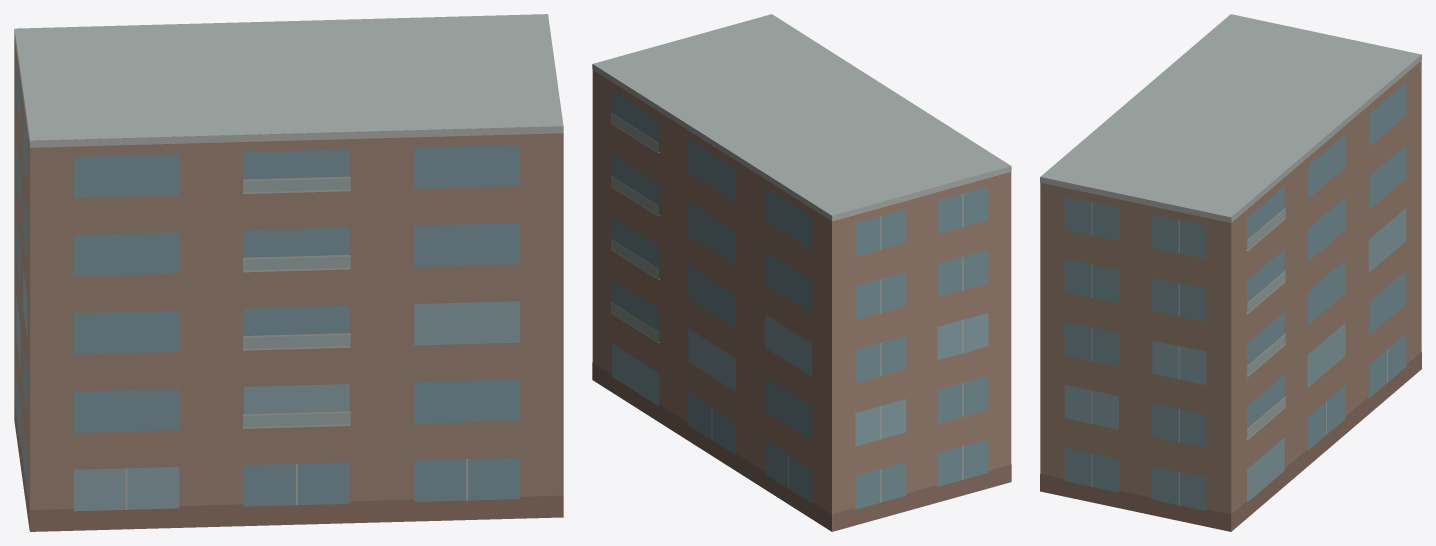
File: survey-upis-32886182.glb
3 views of the same model, side by side, from view 1: azimuth 30°, elevation 25°; view 2: azimuth 150°, elevation 25°; view 3: azimuth 270°, elevation 25° (orthographic). The views are drawn at different scales.
Visible parts, largest first — view 1: survey-upis-32886182.tmp; view 2: survey-upis-32886182.tmp; view 3: survey-upis-32886182.tmp.
Part boxes in pixels (<box>): survey-upis-32886182.tmp: <box>14,14,563,531</box>; survey-upis-32886182.tmp: <box>592,14,1011,531</box>; survey-upis-32886182.tmp: <box>1040,14,1421,531</box>.
Size of the model in its own units: 18.59 by 13.4 by 14.74.
